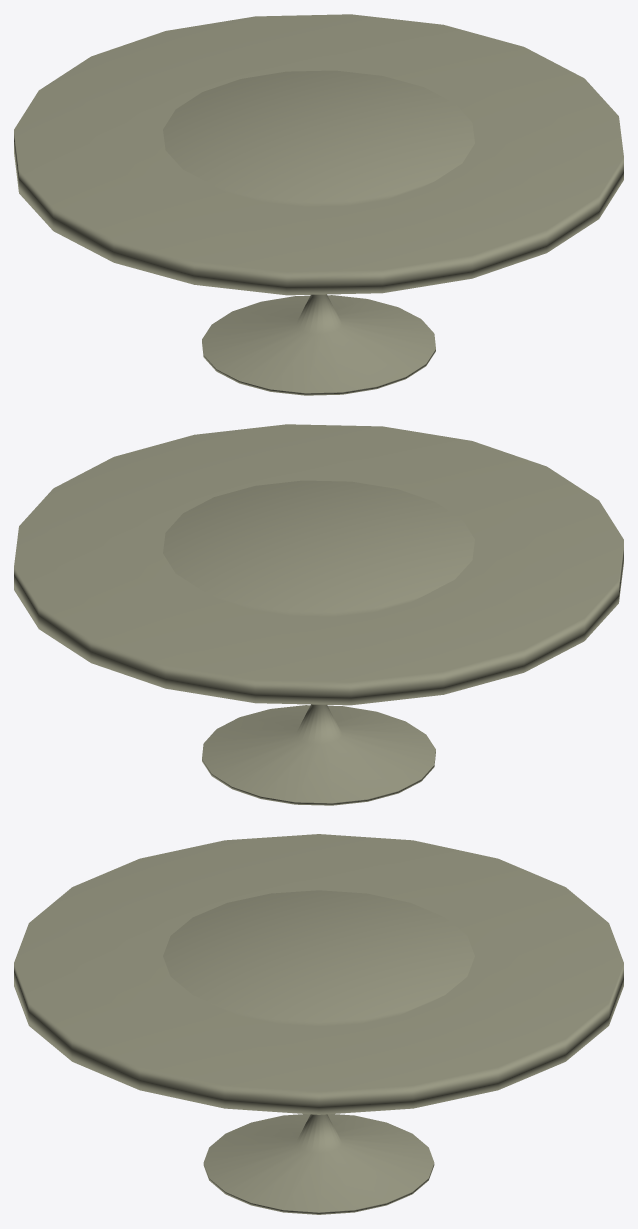
File: lvl1_round_dining_table_untextured.fbx
3 views of the same model, one above another, from view 1: azimuth 30°, elevation 25°; view 2: azimuth 150°, elevation 25°; view 3: azimuth 270°, elevation 25° (orthographic).
Parts seen in each view (by area): view 1: round_dining_table; view 2: round_dining_table; view 3: round_dining_table.
Part boxes in pixels (x1,y1,x2,y2): round_dining_table: [14, 14, 623, 395]; round_dining_table: [14, 424, 623, 805]; round_dining_table: [14, 834, 623, 1214].
Size of the model in its own units: 444 by 168 by 444.
